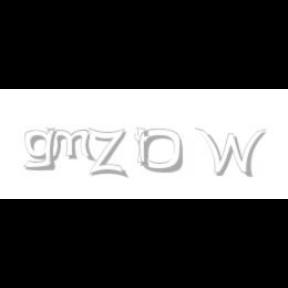O: (140, 128, 184, 174)
W: (194, 128, 266, 178)
Z: (88, 128, 126, 178)
g: (24, 128, 60, 171)
m: (45, 128, 97, 162)
t: (134, 128, 156, 168)
